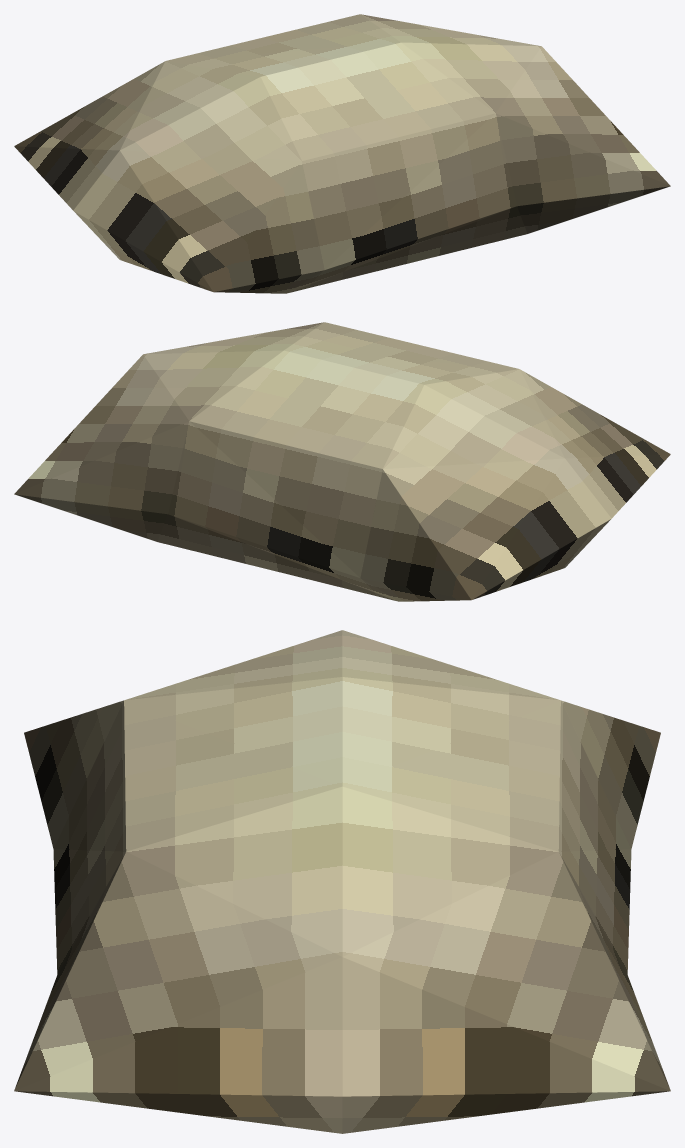
The model's file is floursack.obj.
3 renders of one model, top to bottom at view 1: azimuth 30°, elevation 25°; view 2: azimuth 150°, elevation 25°; view 3: azimuth 270°, elevation 25°, orthographic. The views are drawn at different scales.
Visible parts, largest first — view 1: Geoset_000_Geoset_000_FlowerSack01; view 2: Geoset_000_Geoset_000_FlowerSack01; view 3: Geoset_000_Geoset_000_FlowerSack01.
Part boxes in pixels (left/top/right/bottom): Geoset_000_Geoset_000_FlowerSack01: left=14, top=14, right=670, bottom=293; Geoset_000_Geoset_000_FlowerSack01: left=14, top=322, right=670, bottom=601; Geoset_000_Geoset_000_FlowerSack01: left=14, top=630, right=670, bottom=1133.
Bounding box in the file's own units: 1.94 × 0.5357 × 1.34.
